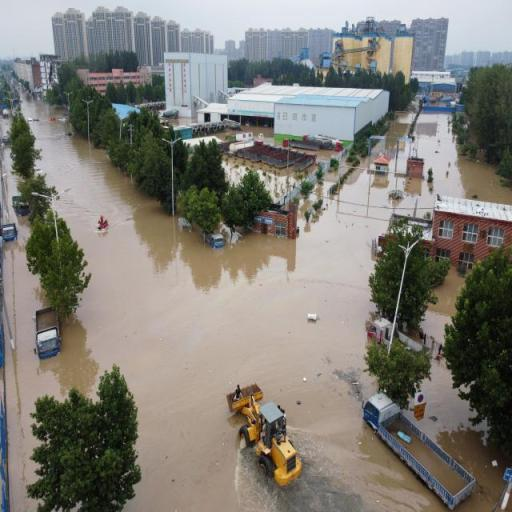flood: (3, 96, 512, 512), (418, 360, 511, 512), (175, 122, 338, 202), (423, 269, 466, 344), (0, 119, 7, 133)
house: (431, 196, 512, 257), (330, 25, 416, 77), (275, 96, 359, 145), (165, 52, 228, 105), (246, 28, 312, 58), (92, 5, 134, 50), (412, 17, 448, 69), (53, 9, 88, 60), (79, 70, 150, 93), (137, 13, 165, 67), (256, 208, 297, 240), (372, 152, 391, 174), (406, 157, 425, 176)
